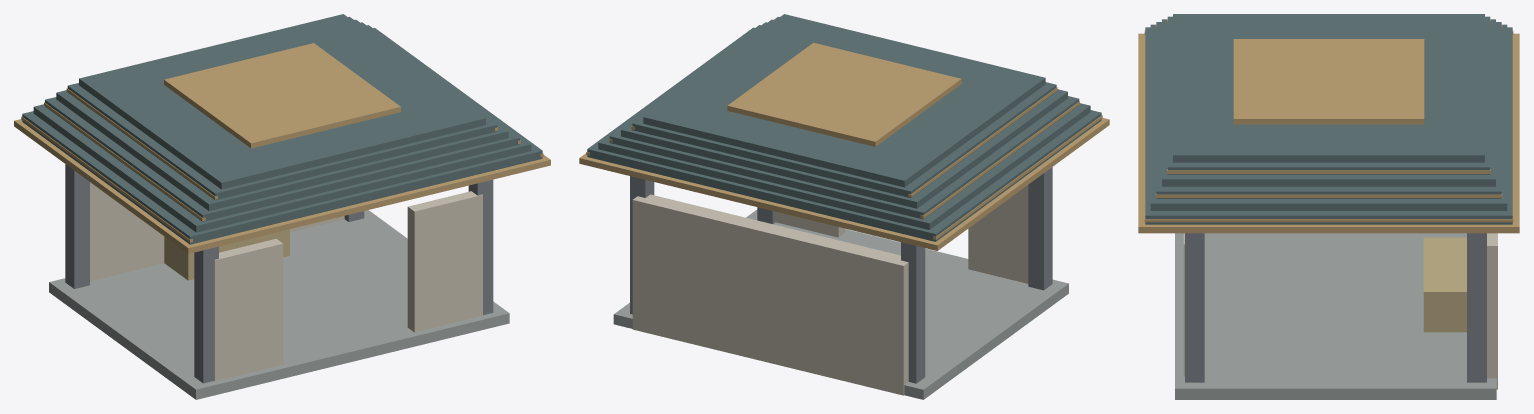
Rendered from ancestral_temple.glb.
3 views of the same model, side by side, from view 1: azimuth 30°, elevation 25°; view 2: azimuth 150°, elevation 25°; view 3: azimuth 270°, elevation 25° (orthographic). The views are drawn at different scales.
Parts seen in each view (by area): view 1: ancestral_temple_06_roof_courses, ancestral_temple_00_sacred_floor, ancestral_temple_03_facade, ancestral_temple_08_upper_ridge, ancestral_temple_01_columns, ancestral_temple_05_eaves, ancestral_temple_02_back_wall, ancestral_temple_07_ridge_trim, ancestral_temple_04_altar; view 2: ancestral_temple_06_roof_courses, ancestral_temple_02_back_wall, ancestral_temple_08_upper_ridge, ancestral_temple_00_sacred_floor, ancestral_temple_01_columns, ancestral_temple_05_eaves, ancestral_temple_03_facade, ancestral_temple_07_ridge_trim; view 3: ancestral_temple_06_roof_courses, ancestral_temple_00_sacred_floor, ancestral_temple_08_upper_ridge, ancestral_temple_05_eaves, ancestral_temple_01_columns, ancestral_temple_07_ridge_trim, ancestral_temple_04_altar, ancestral_temple_02_back_wall.
Part boxes in pixels (x1,y1,x2,y2): ancestral_temple_06_roof_courses: (22, 14, 542, 244); ancestral_temple_00_sacred_floor: (49, 210, 509, 399); ancestral_temple_03_facade: (214, 191, 482, 381); ancestral_temple_08_upper_ridge: (164, 43, 400, 148); ancestral_temple_01_columns: (65, 164, 493, 383); ancestral_temple_05_eaves: (14, 119, 550, 253); ancestral_temple_02_back_wall: (90, 182, 344, 281); ancestral_temple_07_ridge_trim: (21, 88, 543, 242); ancestral_temple_04_altar: (164, 229, 289, 280); ancestral_temple_06_roof_courses: (587, 14, 1101, 241); ancestral_temple_02_back_wall: (632, 194, 908, 395); ancestral_temple_08_upper_ridge: (727, 42, 961, 146); ancestral_temple_00_sacred_floor: (613, 209, 1068, 399); ancestral_temple_01_columns: (630, 167, 1052, 383); ancestral_temple_05_eaves: (579, 118, 1109, 250); ancestral_temple_03_facade: (775, 185, 1028, 283); ancestral_temple_07_ridge_trim: (586, 87, 1102, 239); ancestral_temple_06_roof_courses: (1145, 14, 1512, 224); ancestral_temple_00_sacred_floor: (1175, 233, 1496, 399); ancestral_temple_08_upper_ridge: (1233, 39, 1424, 124); ancestral_temple_05_eaves: (1138, 33, 1519, 233); ancestral_temple_01_columns: (1185, 233, 1486, 382); ancestral_temple_07_ridge_trim: (1144, 19, 1513, 222); ancestral_temple_04_altar: (1423, 237, 1466, 332); ancestral_temple_02_back_wall: (1487, 233, 1497, 389).
Bounding box in the file's own units: 18.5 × 10.59 × 15.4.
